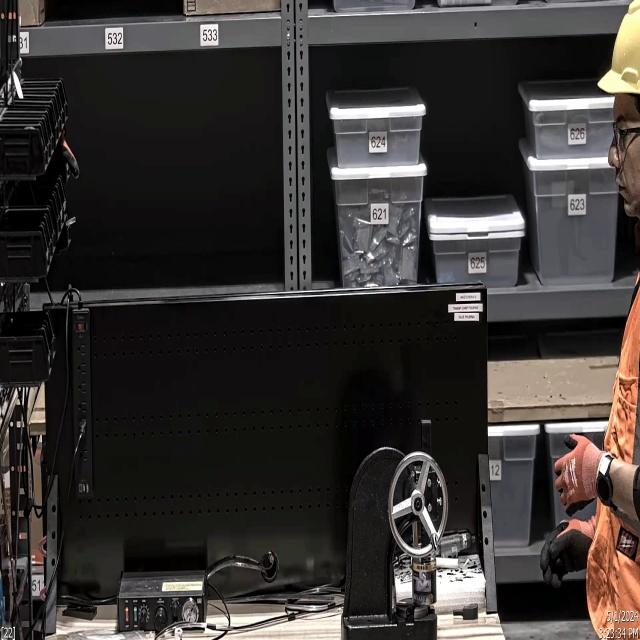construction-gloves: (536, 514, 598, 589), (552, 430, 596, 520)
